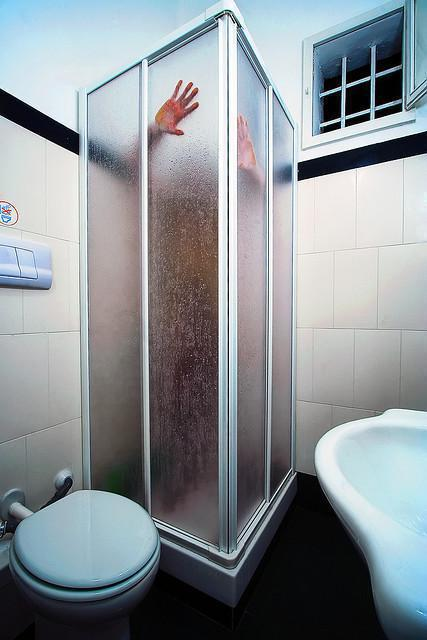Ducha: (73, 2, 298, 605)
Lavamanos: (309, 409, 426, 633)
